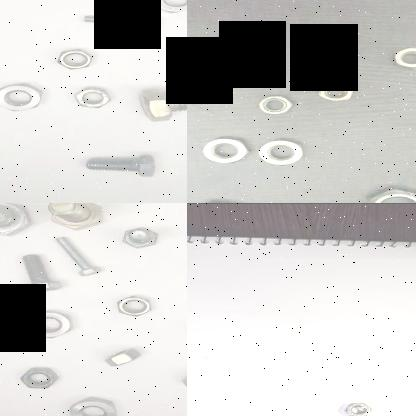Bolts: (82, 143, 160, 183), (130, 79, 187, 122), (10, 252, 68, 292), (52, 234, 102, 276), (84, 7, 162, 32), (45, 203, 109, 230), (110, 222, 162, 252), (0, 203, 33, 246)
NUTS: (15, 306, 81, 340), (256, 132, 306, 168), (14, 362, 68, 392), (198, 136, 254, 164), (0, 77, 42, 110), (104, 293, 157, 319), (71, 80, 114, 112), (60, 394, 120, 416), (254, 90, 300, 116), (212, 21, 258, 47), (363, 181, 416, 203), (314, 78, 358, 104), (56, 44, 94, 72), (100, 346, 148, 368), (387, 42, 416, 68), (191, 193, 251, 203), (148, 0, 187, 15), (343, 400, 377, 416)
